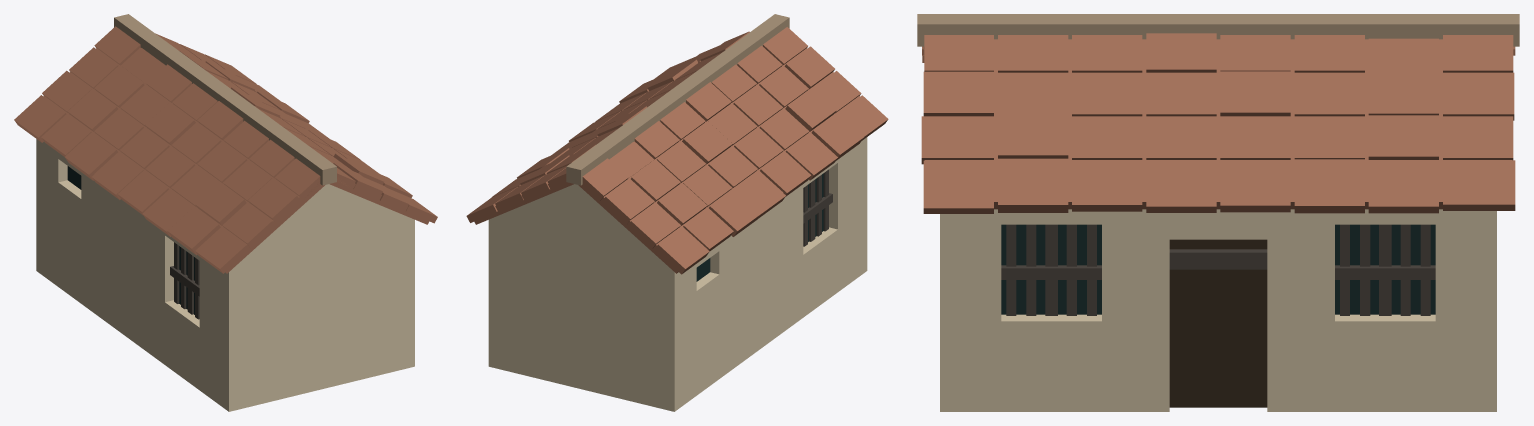
Rendered from Building_mode_L2_Northhouse023.fbx.
The picture shows the model from 3 angles, left to right: view 1: azimuth 30°, elevation 25°; view 2: azimuth 150°, elevation 25°; view 3: azimuth 270°, elevation 25°; orthographic projection. The views are drawn at different scales.
Parts seen in each view (by area): view 1: Building_mode_L2_Northhouse023; view 2: Building_mode_L2_Northhouse023; view 3: Building_mode_L2_Northhouse023.
Part boxes in pixels (x1,y1,x2,y2): Building_mode_L2_Northhouse023: [14, 14, 437, 411]; Building_mode_L2_Northhouse023: [466, 14, 888, 411]; Building_mode_L2_Northhouse023: [917, 14, 1519, 411].
Size of the model in its own units: 2.89 by 2.83 by 4.71.
